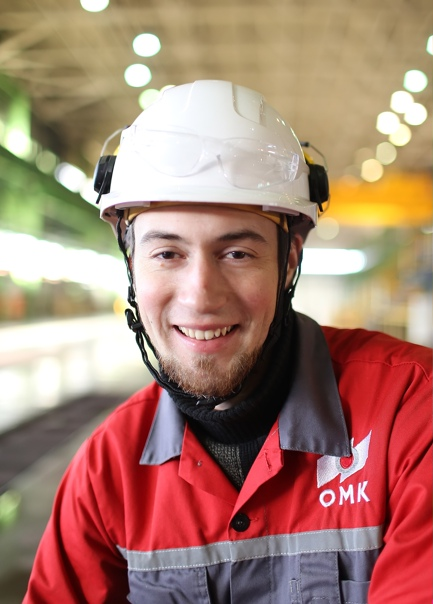person: (23, 79, 432, 604)
